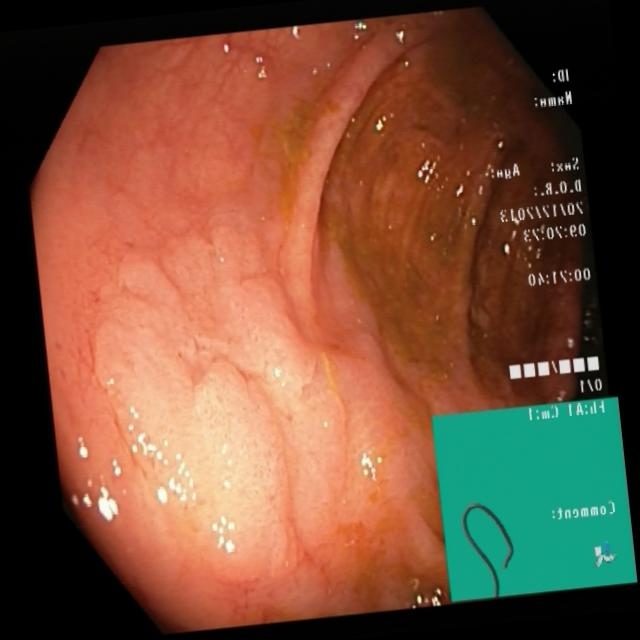Polyps: (91, 228, 446, 613)
